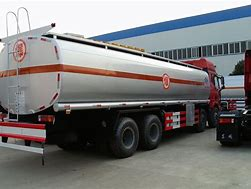oil truck: (0, 6, 225, 159)
